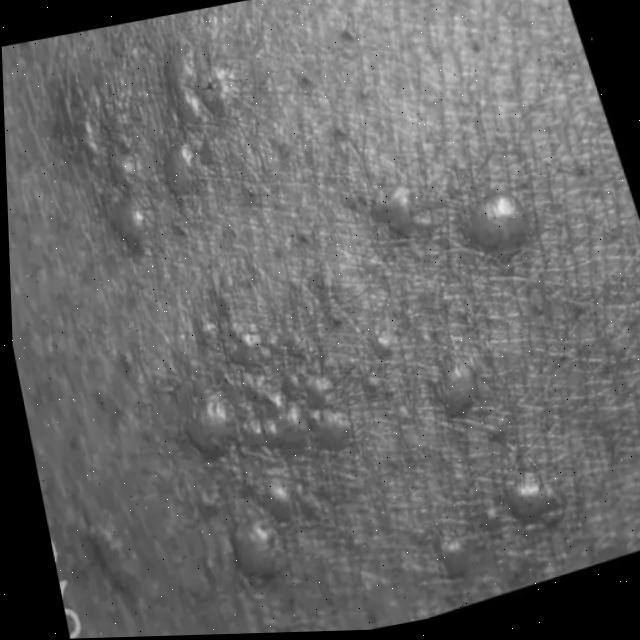Shingles: (120, 186, 600, 637), (35, 45, 260, 255)
